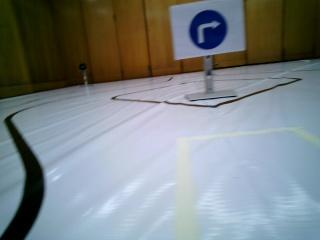right: (173, 6, 239, 50)
